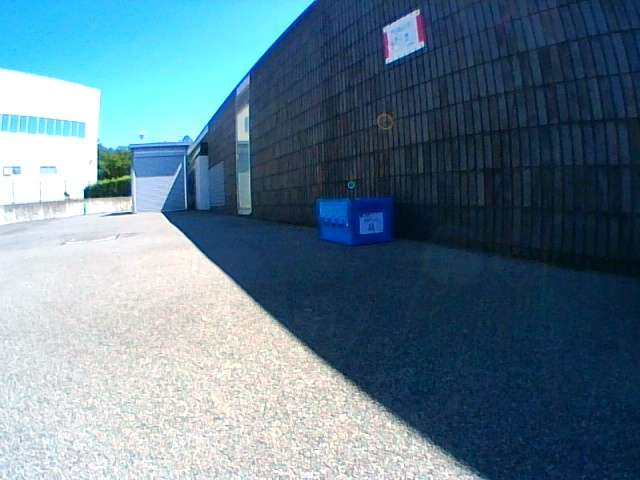blue_box: (318, 199, 391, 243)
tag_a: (361, 216, 381, 232)
